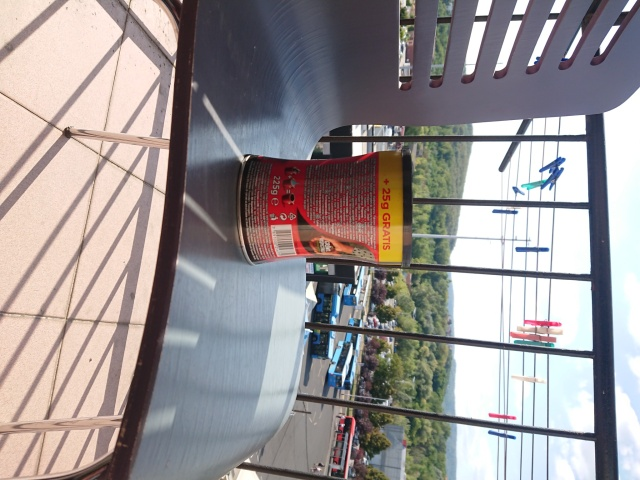Nescafe Classic 225g: (228, 138, 422, 276)
